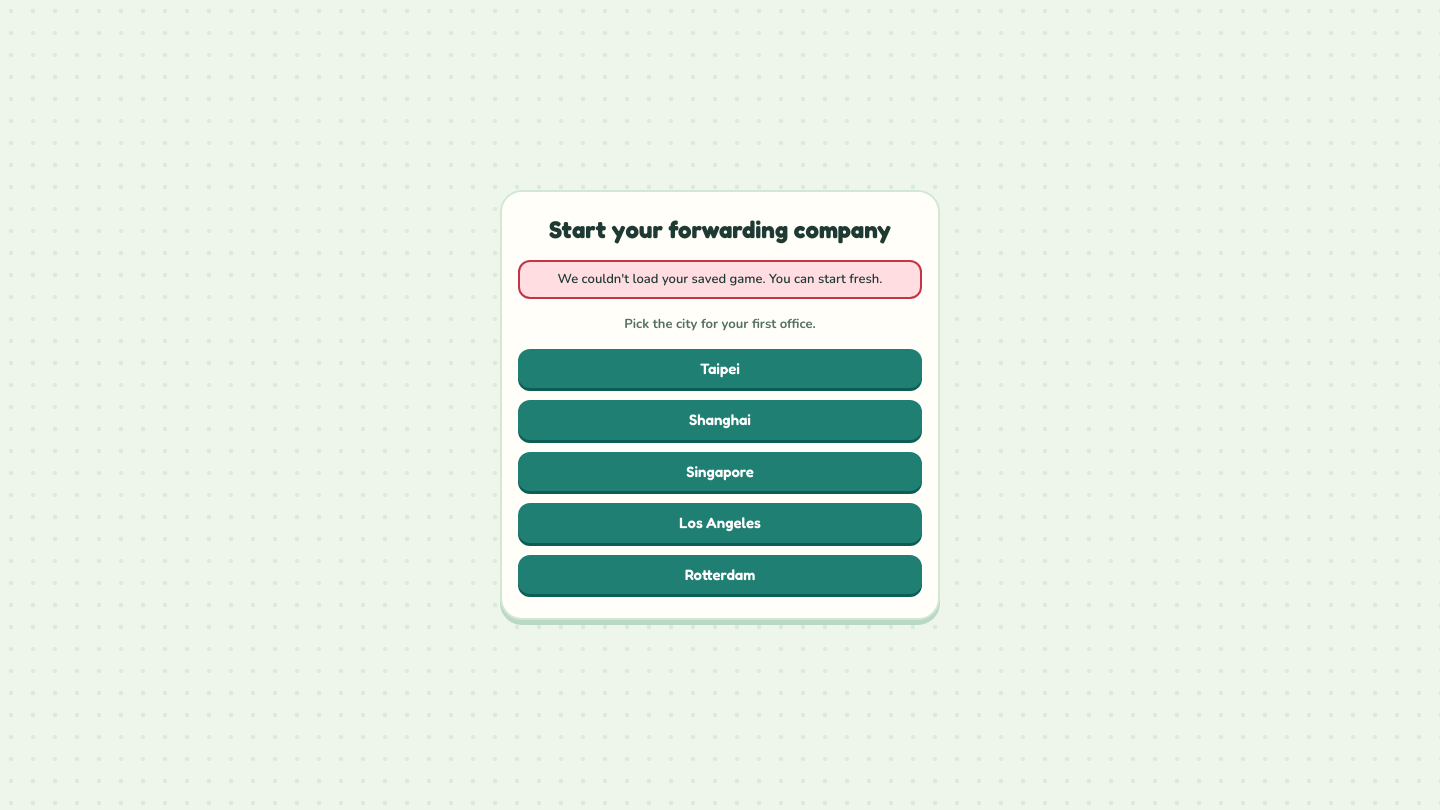
it: App › a stored save that cannot be loaded › when the backup could not be written but saving still works › starting a new game asks first, and Cancel leaves the old save exactly as it was
This screenshot has width=1440, height=810.
expect the message reads "We couldn't load your saved game. You can start fresh.": met, box [558,270,882,288]
Click the button "Taipei".
click(720, 369)  # box [518,349,922,388]
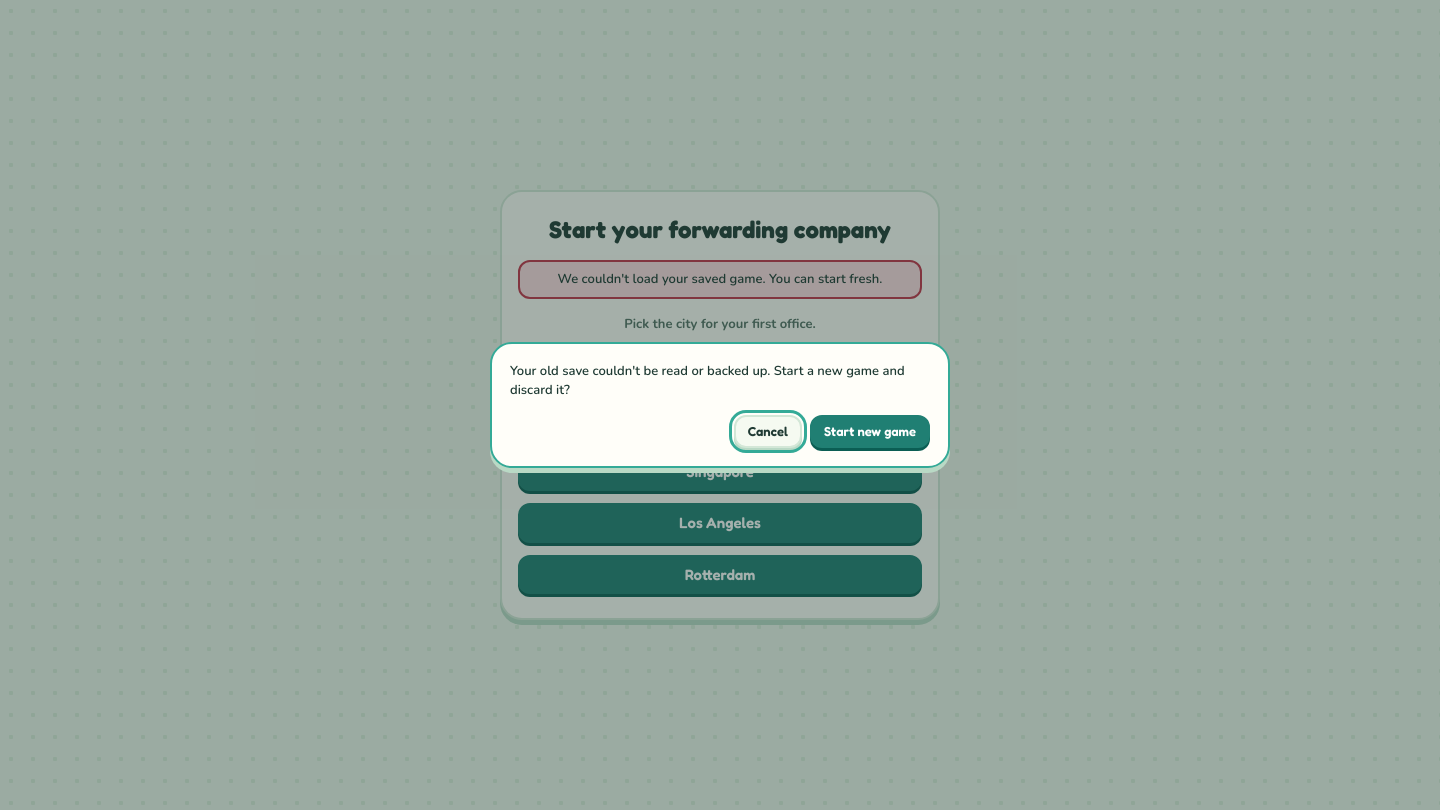
Click the button "Cancel".
click(768, 431)  # box [734,415,802,448]
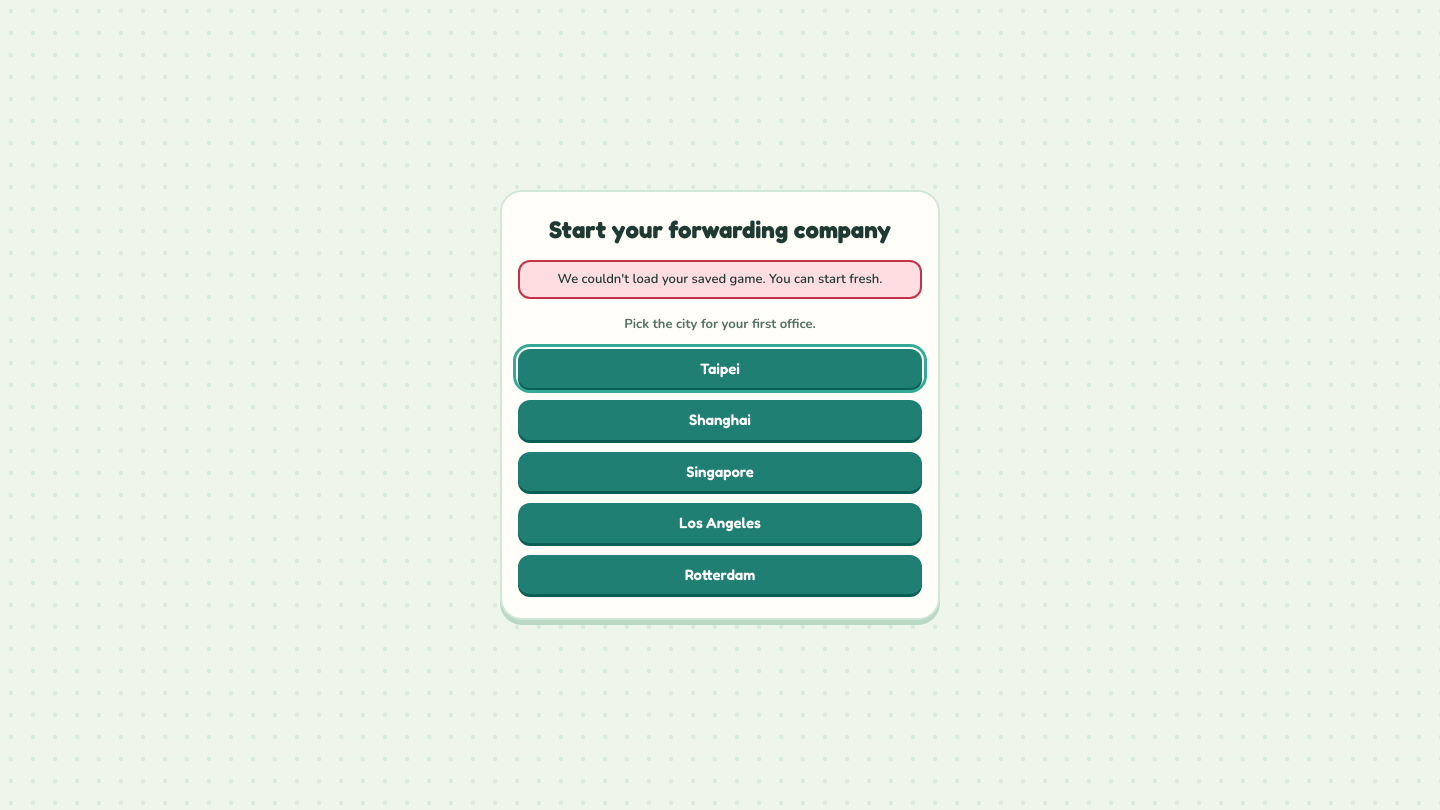
expect the message "We couldn't load your saved game. You can start fresh." is shown: met, box [518,260,922,299]
expect the dialog is gone: met
